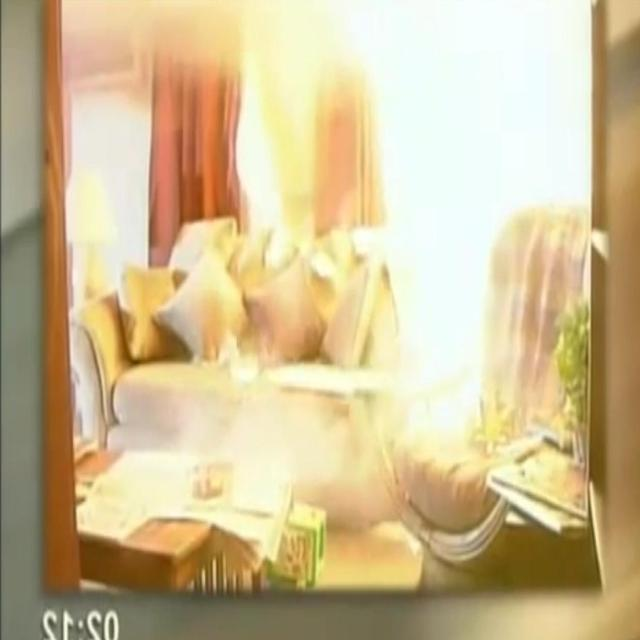smoke: (326, 0, 591, 437)
